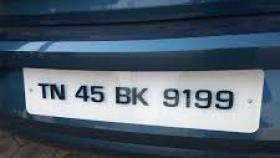number_plate: (21, 65, 264, 135)
